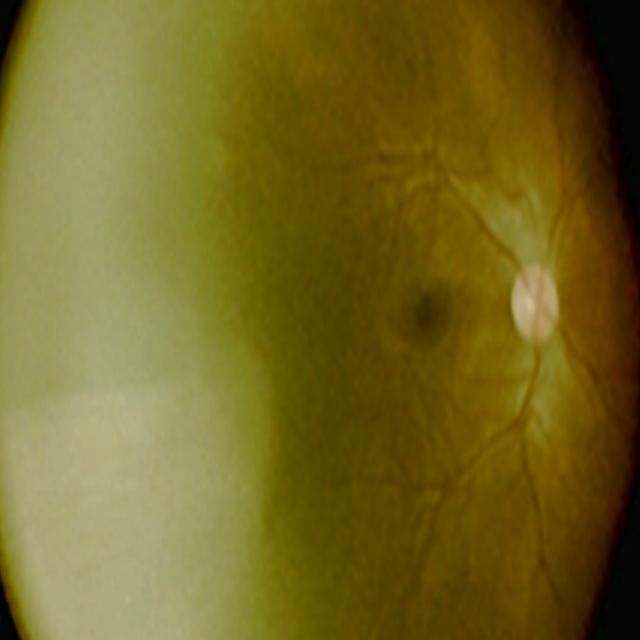optic-nerve: (484, 224, 591, 382)
